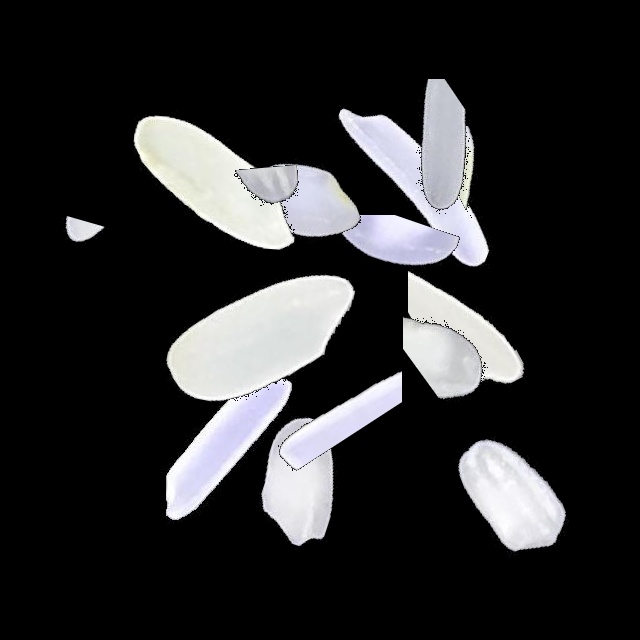Broken: (277, 79, 527, 241), (258, 215, 508, 350), (408, 170, 541, 420), (271, 241, 402, 491), (403, 203, 528, 453), (380, 126, 630, 227), (215, 91, 312, 341), (51, 141, 133, 391)
Full: (174, 356, 424, 606), (286, 61, 536, 311), (389, 369, 639, 619), (178, 76, 428, 326), (105, 324, 355, 574), (132, 209, 382, 459), (90, 58, 340, 308)
